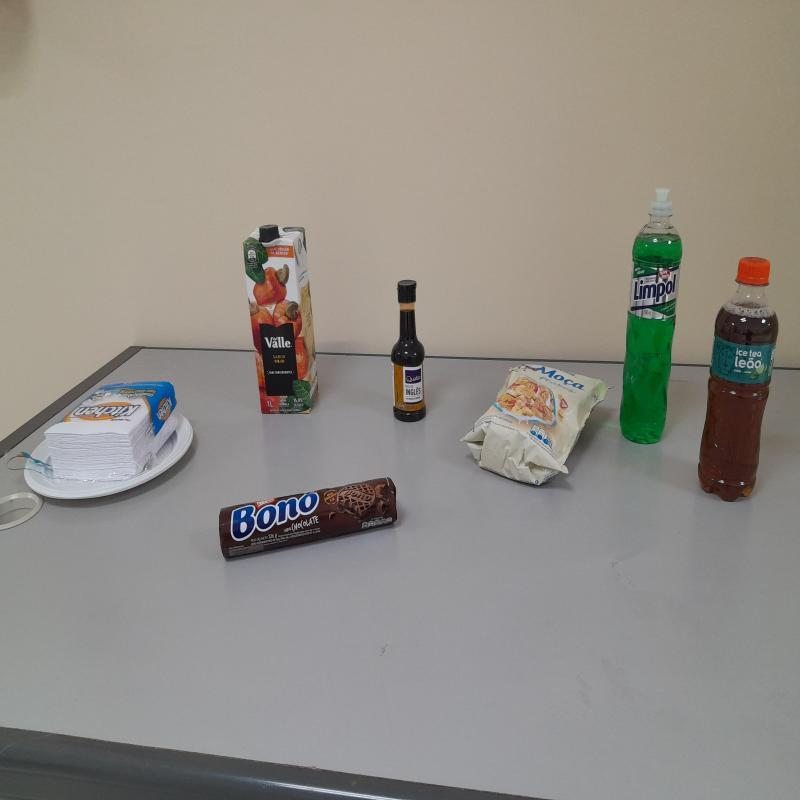Cleaner: (620, 189, 684, 444)
Cookies: (216, 479, 404, 562)
CornFlakes: (463, 361, 608, 492)
EnglishSauce: (389, 282, 426, 420)
IceTea: (698, 257, 780, 500)
